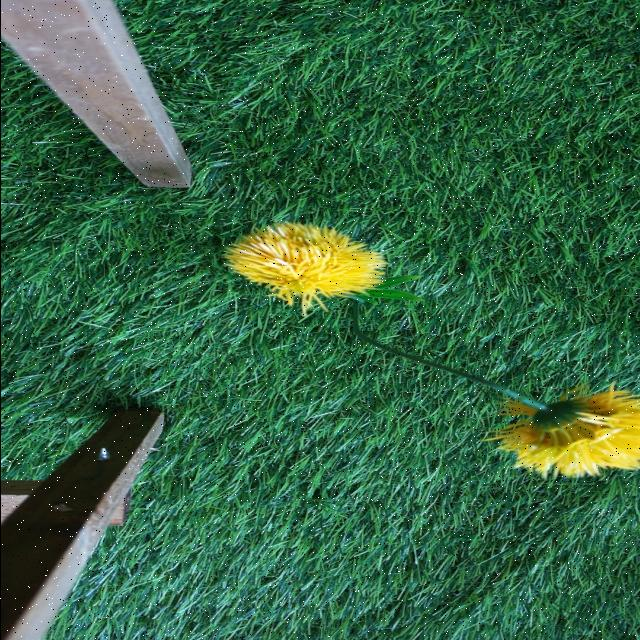base: (334, 270, 424, 314)
flower: (224, 225, 384, 313), (492, 392, 640, 476)
